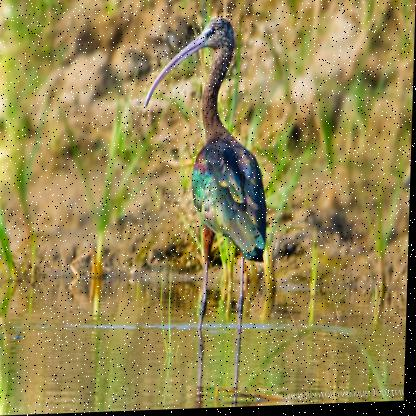Burung: (140, 19, 278, 347)
